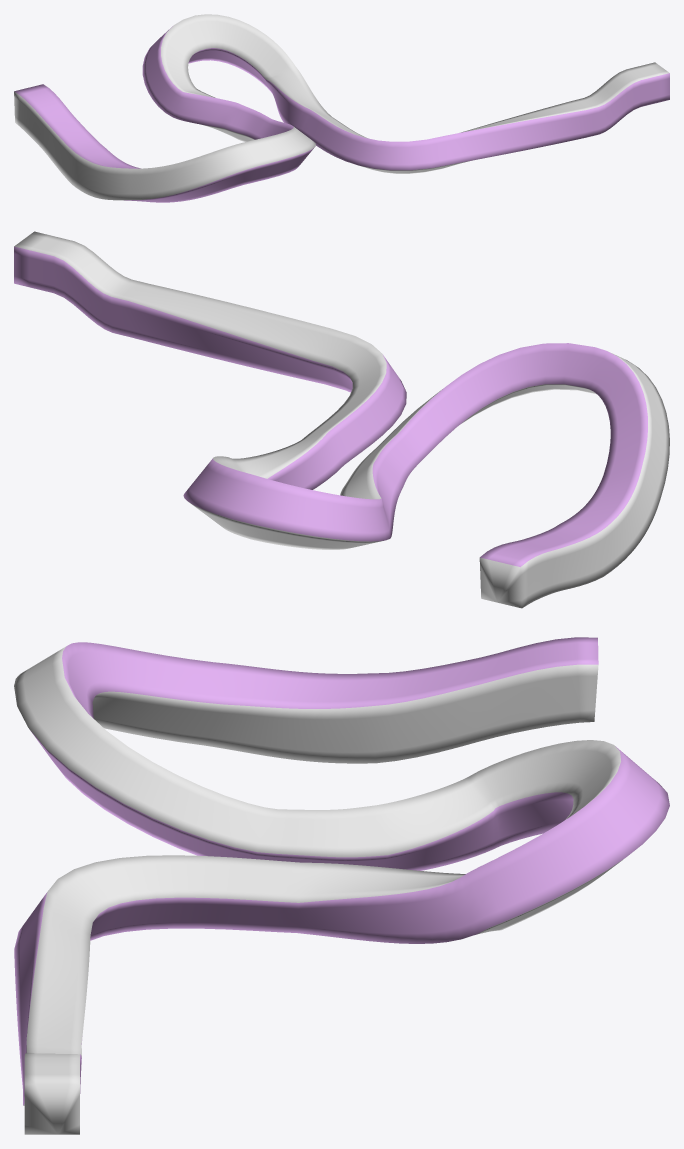
The model's file is weird_curve.fbx.
3 views of the same model, one above another, from view 1: azimuth 30°, elevation 25°; view 2: azimuth 150°, elevation 25°; view 3: azimuth 270°, elevation 25° (orthographic). The views are drawn at different scales.
Parts seen in each view (by area): view 1: weird_curve; view 2: weird_curve; view 3: weird_curve.
Part boxes in pixels (x1,y1,x2,y2): weird_curve: (14,14,669,202); weird_curve: (14,231,669,608); weird_curve: (14,637,669,1134).
Bounding box in the file's own units: 216 × 130 × 34.96.
